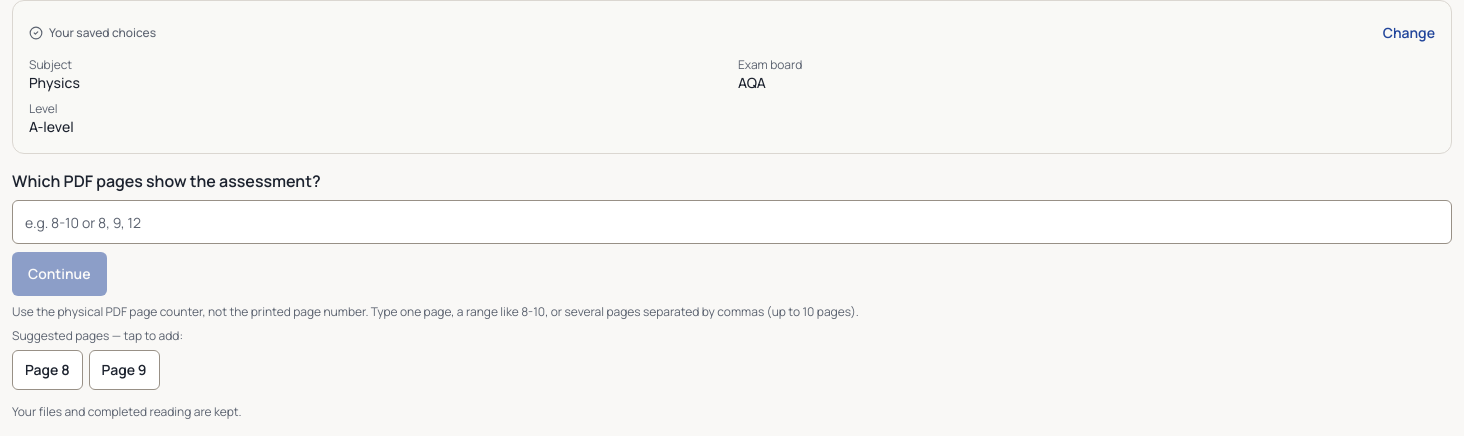
Test: lets phones enter ranges and lists and avoids adding a suggested page twice
The width and height of the screenshot is (1464, 436).
Later steps or results of the test are not shown.
Expected: the text "Use the physical PDF page counter, not the printed page number" is shown, [12,303,859,320]
Click the button "Page 8" at (47, 370), box [12,350,83,390]
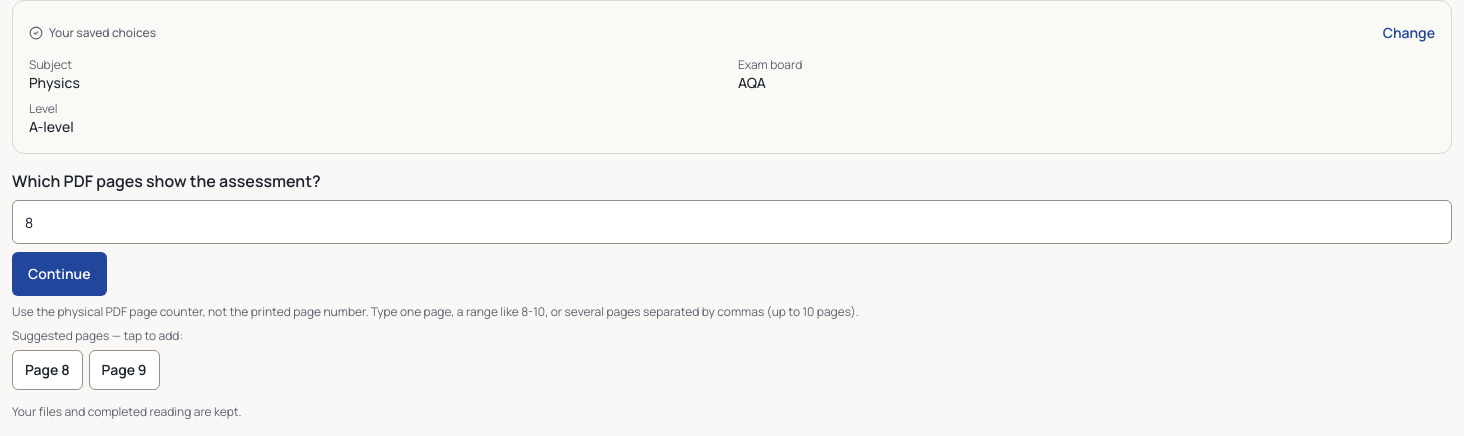
Click the button "Page 8" at (47, 370), box [12,350,83,390]
Now the field labelled "Which PDF pages show the assessment?" holds "8", box [12,200,1452,244]
